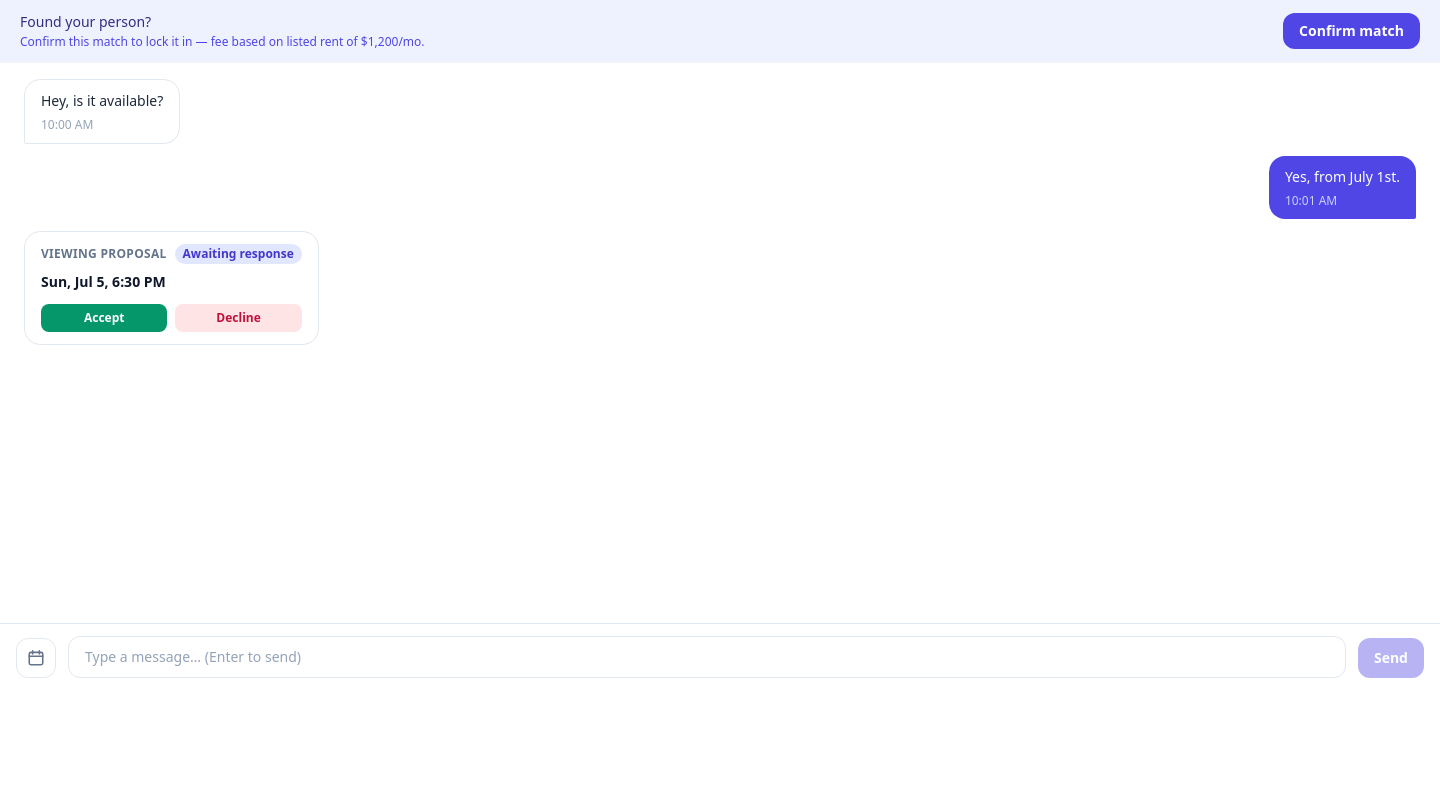
viewing_proposal message rendering › refreshes messages and shows an error message when respond fails
Click the button "Accept". click: x=104, y=318
box: [41, 304, 167, 332]
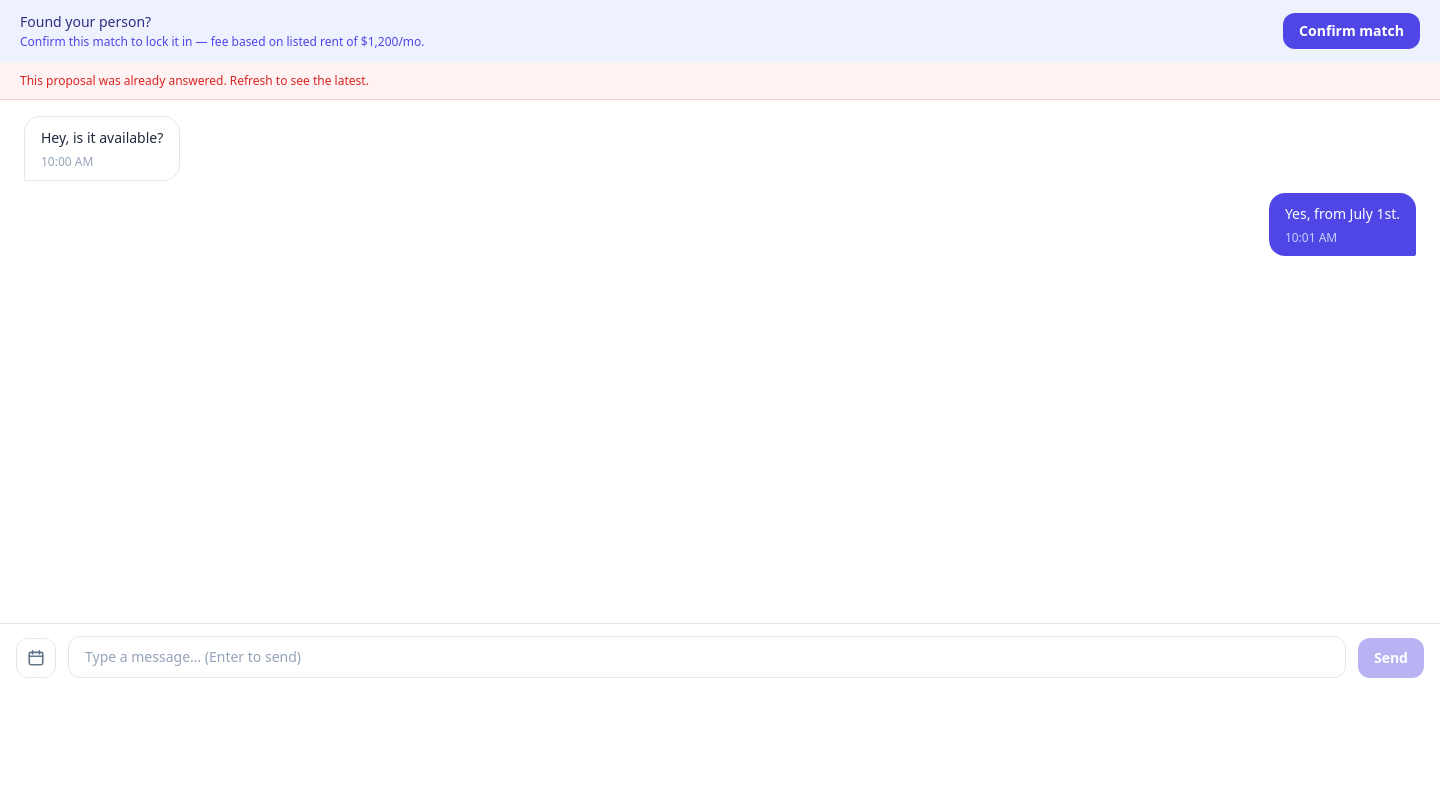
Expected: the text "This proposal was already answered" is shown, [20, 72, 369, 89]
